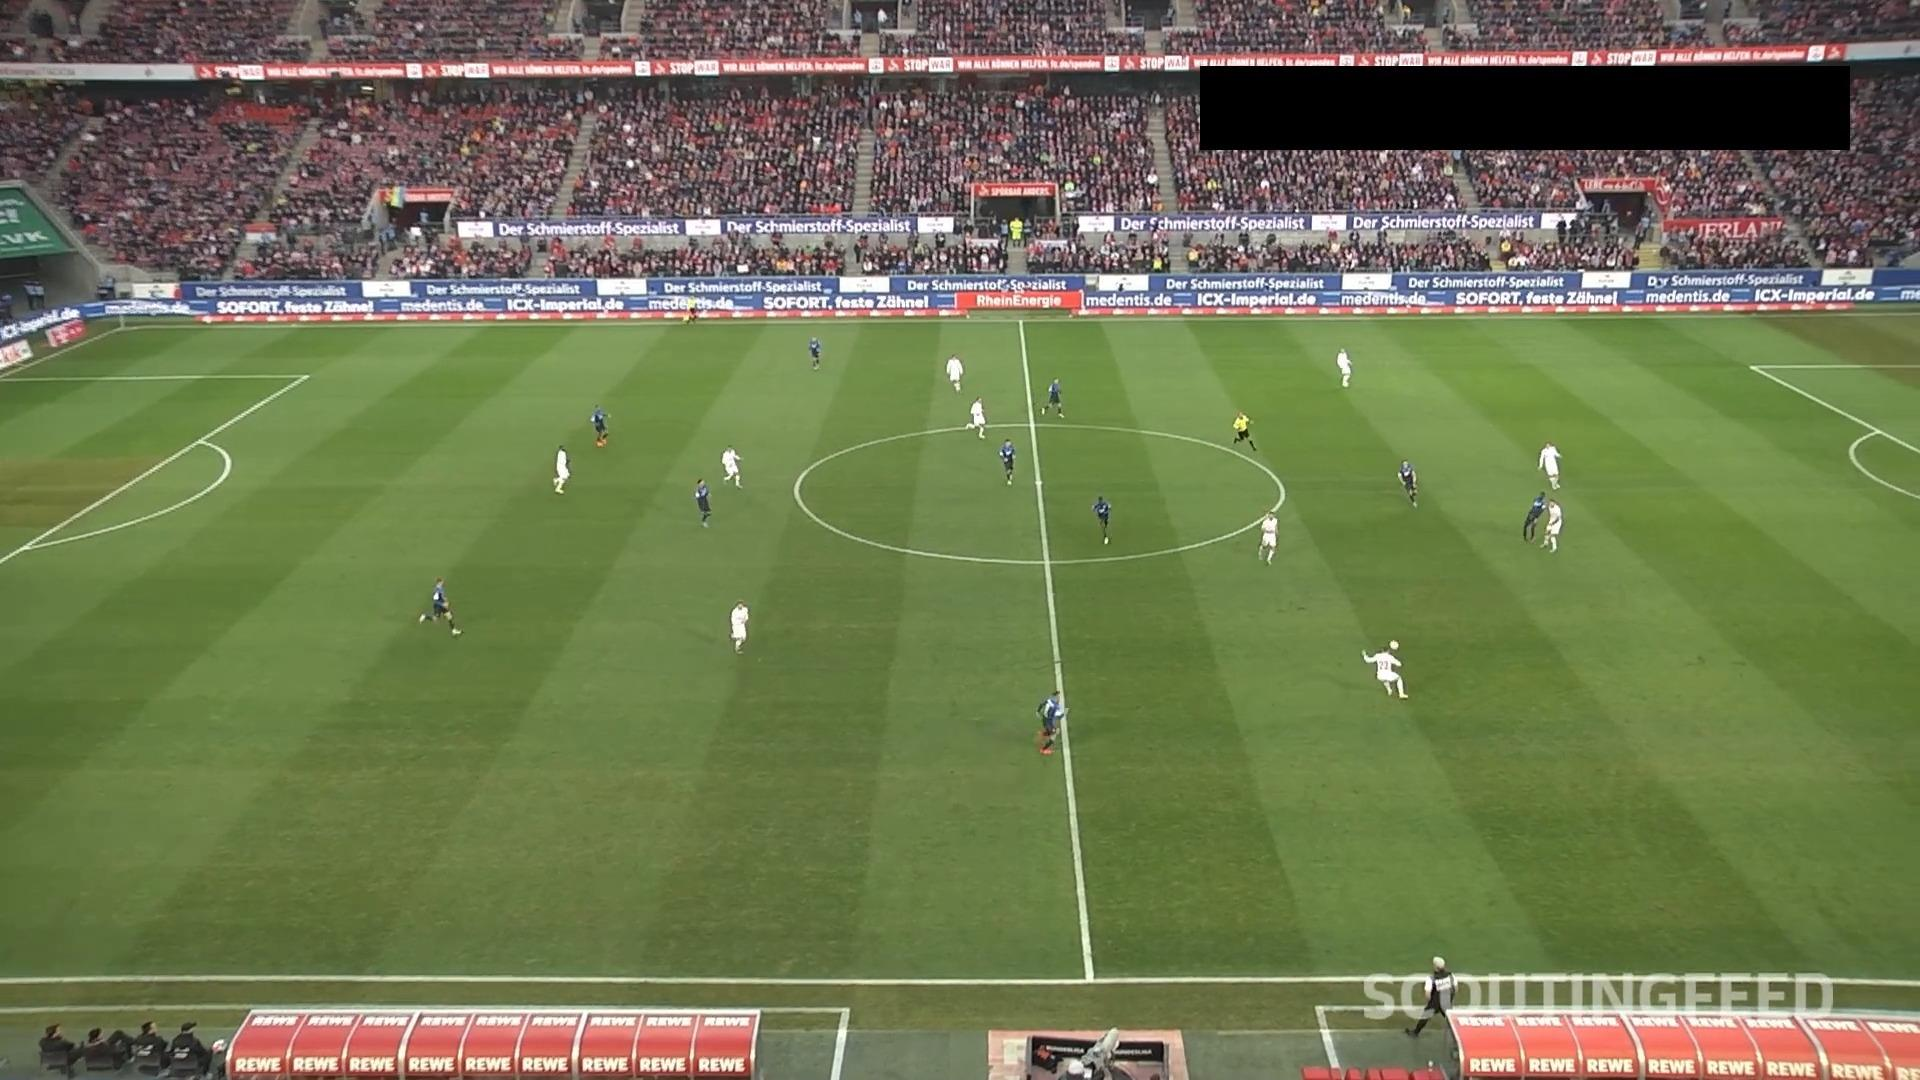ball: (1389, 638, 1400, 651)
